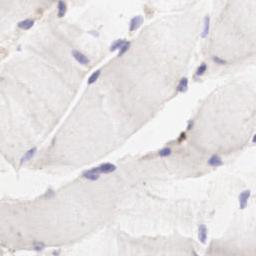nucleus: (19, 147, 38, 164), (72, 49, 90, 66), (238, 187, 250, 209), (117, 40, 132, 57), (201, 14, 211, 38), (18, 19, 36, 32), (130, 14, 144, 30), (194, 62, 207, 79), (81, 171, 99, 182), (207, 154, 225, 165), (177, 77, 189, 92), (198, 224, 207, 244), (98, 162, 117, 171), (88, 71, 101, 84), (108, 38, 122, 49), (58, 1, 67, 17), (213, 56, 227, 66), (159, 146, 172, 156), (33, 244, 45, 253), (187, 116, 193, 131), (52, 247, 60, 256), (253, 134, 256, 142)
